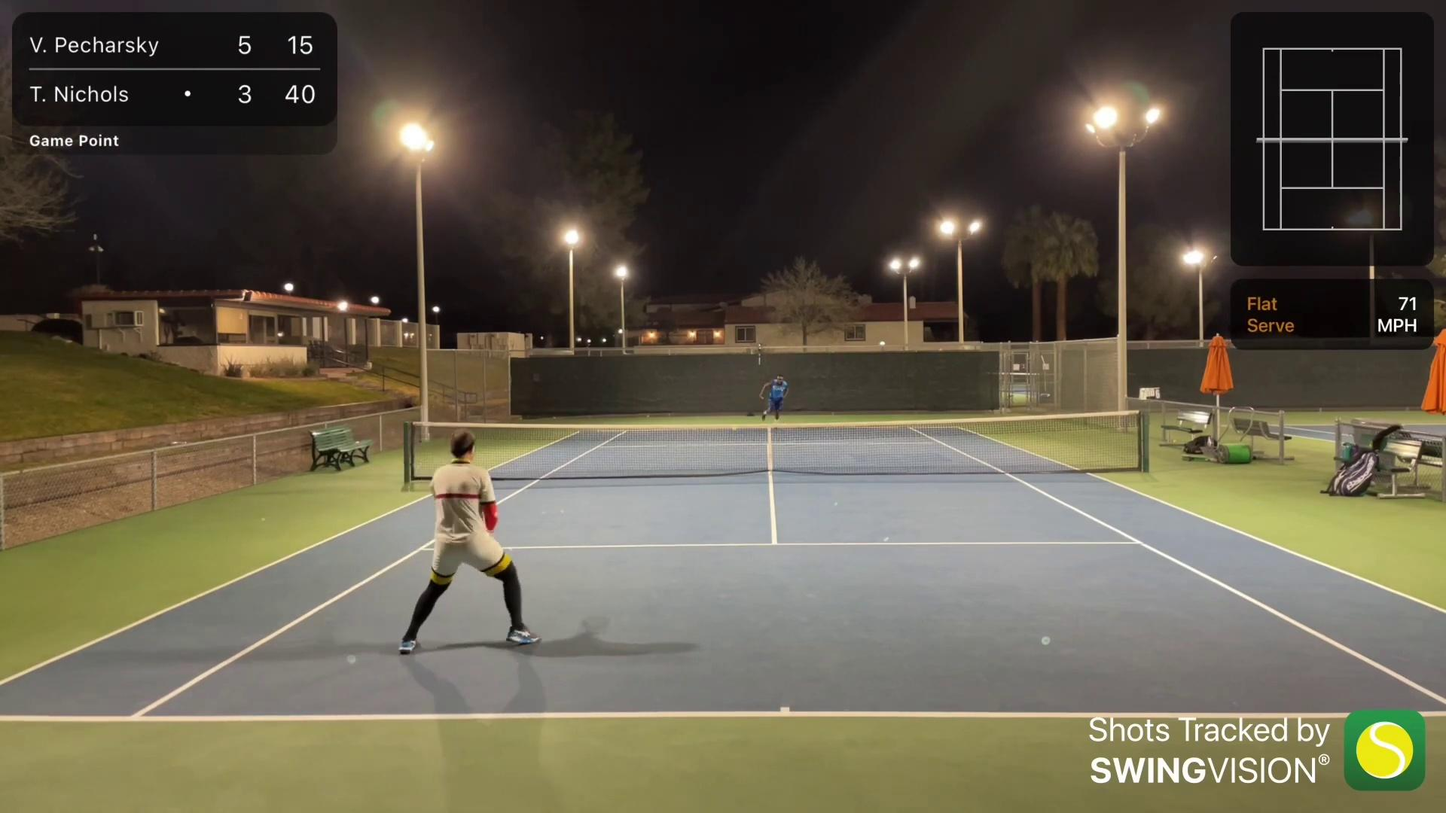ball: (729, 421, 740, 437)
